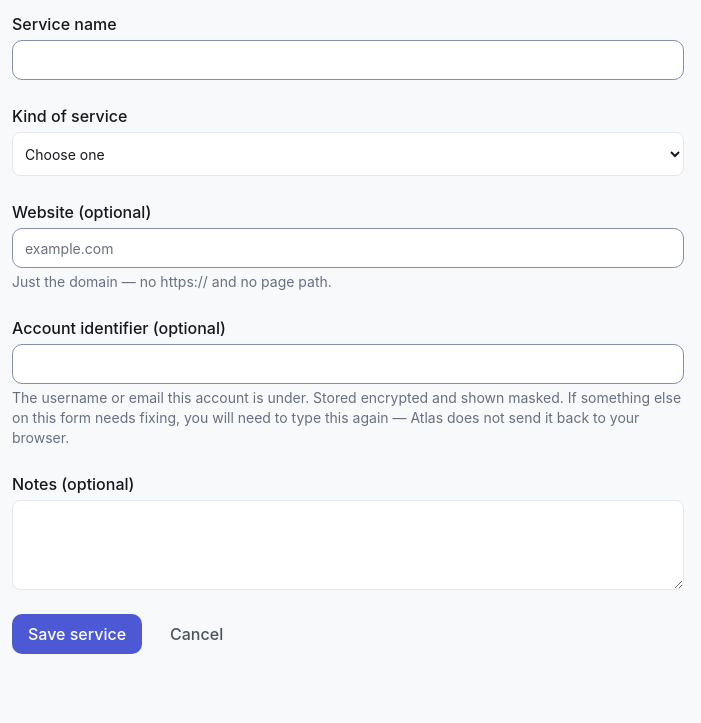
validation › reports a missing service name without contacting the server
Click the button "Save service": [77, 634] box [12,614,142,654]
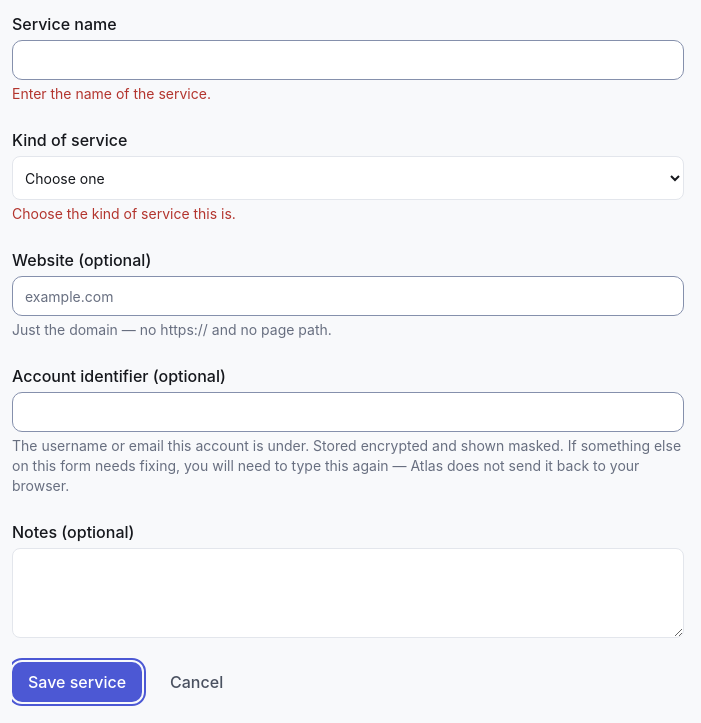
Result: the text "Enter the name of the service." is shown at [12,85,211,102]
